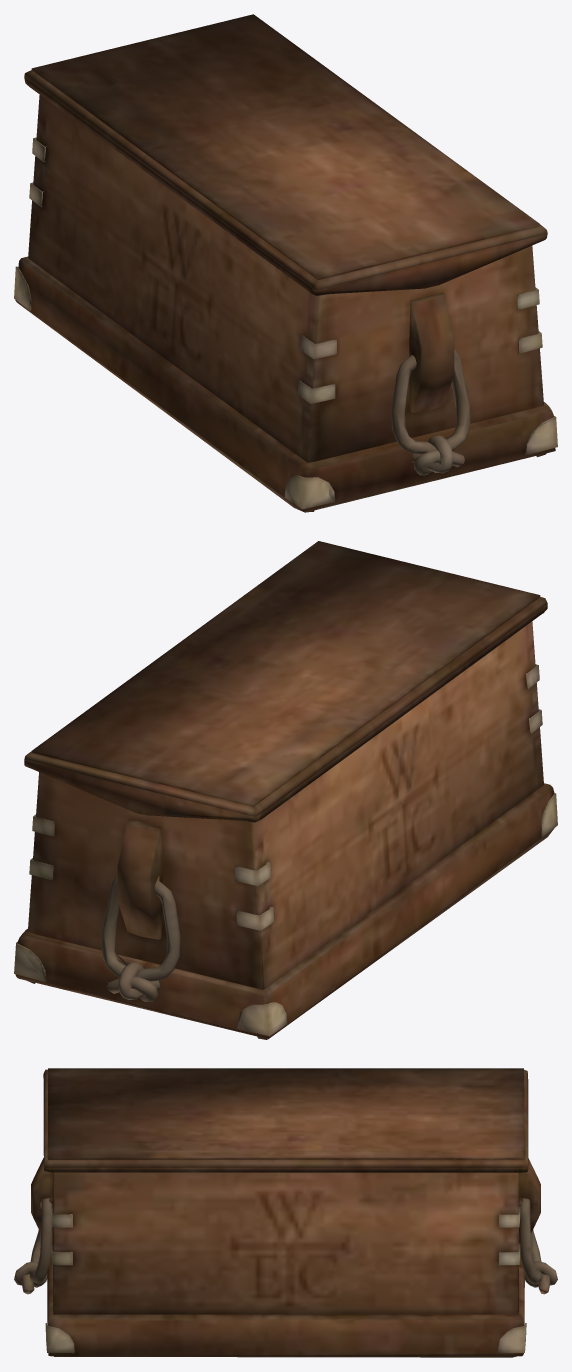
File: wooden_crate_02.glb
3 views of the same model, one above another, from view 1: azimuth 30°, elevation 25°; view 2: azimuth 150°, elevation 25°; view 3: azimuth 270°, elevation 25° (orthographic). The views are drawn at different scales.
Parts seen in each view (by area): view 1: wooden_crate_02_crate, wooden_crate_02_crate_lo; view 2: wooden_crate_02_crate, wooden_crate_02_crate_lo; view 3: wooden_crate_02_crate, wooden_crate_02_crate_lo.
Boxes of the visible parts, box(x1,y1,x2,y2) form: wooden_crate_02_crate: box(14, 69, 557, 512); wooden_crate_02_crate_lo: box(17, 14, 553, 510); wooden_crate_02_crate: box(14, 541, 557, 1039); wooden_crate_02_crate_lo: box(16, 541, 547, 1039); wooden_crate_02_crate: box(14, 1069, 557, 1357); wooden_crate_02_crate_lo: box(44, 1068, 527, 1356).
Bounding box in the file's own units: 0.5291 × 0.464 × 1.17.
Materials: 1 (1 with a texture image).
